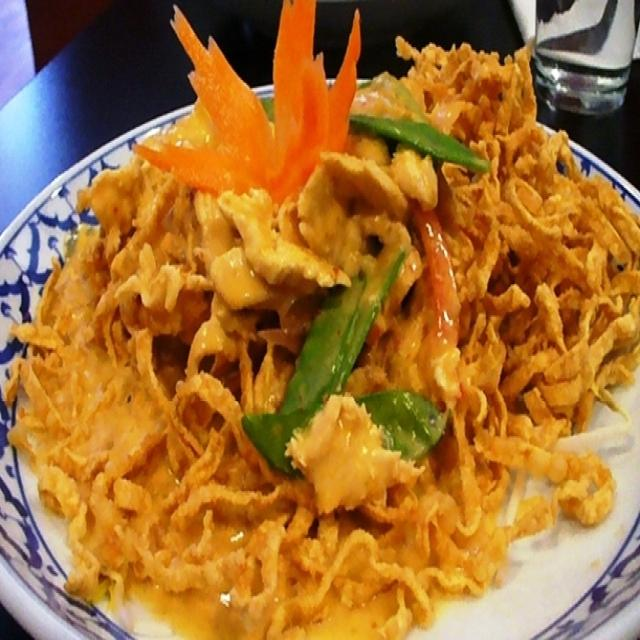面条主食: (25, 36, 638, 623)
